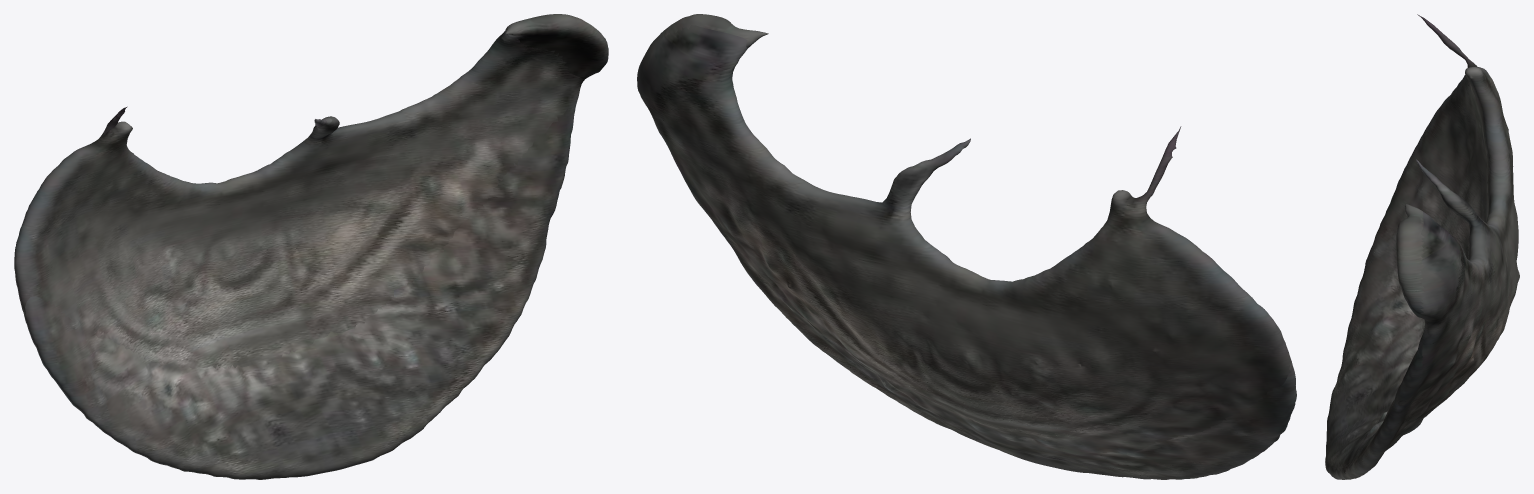
Rendered from kfl-2160.glb.
The picture shows the model from 3 angles, left to right: view 1: azimuth 30°, elevation 25°; view 2: azimuth 150°, elevation 25°; view 3: azimuth 270°, elevation 25°; orthographic projection. The views are drawn at different scales.
Visible parts, largest first — view 1: geometry_0; view 2: geometry_0; view 3: geometry_0.
Boxes of the visible parts, x1,y1,x2,y2 form: geometry_0: [14, 14, 608, 479]; geometry_0: [637, 14, 1296, 479]; geometry_0: [1325, 14, 1519, 479].
Size of the model in its own units: 0.9915 by 0.6074 by 0.2964.
Materials: 1 (1 with a texture image).
